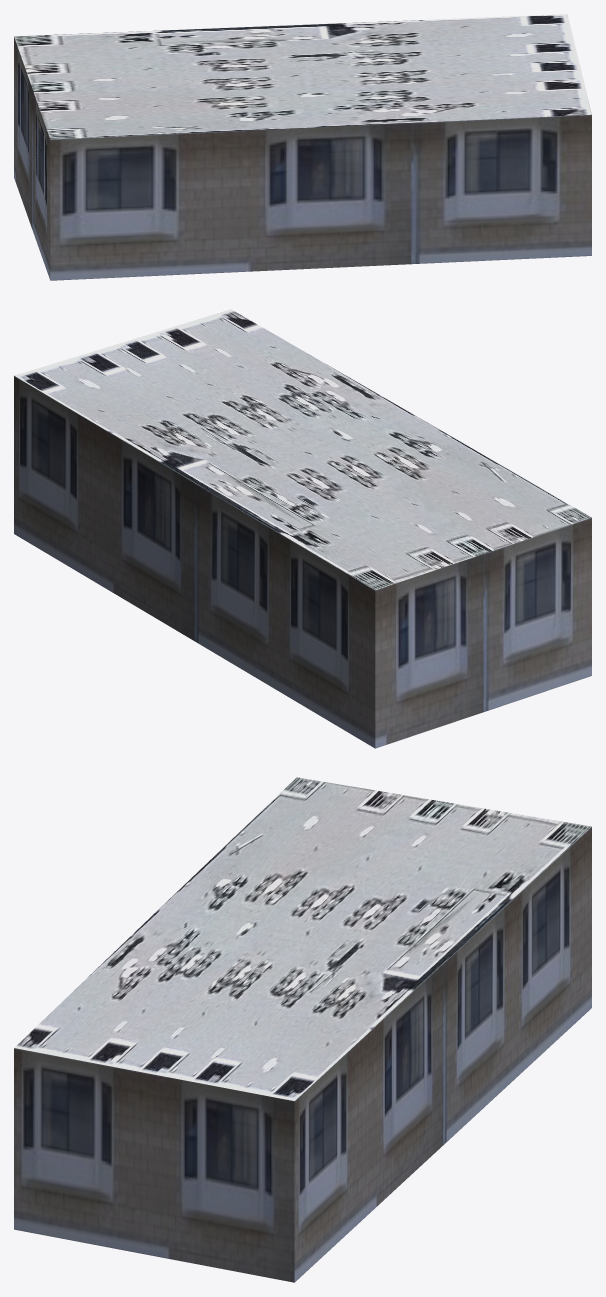
The model's file is ResTex__570.fbx.
3 views of the same model, one above another, from view 1: azimuth 30°, elevation 25°; view 2: azimuth 150°, elevation 25°; view 3: azimuth 270°, elevation 25° (orthographic). The views are drawn at different scales.
Parts seen in each view (by area): view 1: CityEngineMaterial_3_m, CityEngineMaterial_m; view 2: CityEngineMaterial_3_m, CityEngineMaterial_m; view 3: CityEngineMaterial_3_m, CityEngineMaterial_m.
Boxes of the visible parts, x1=… form: CityEngineMaterial_3_m: x1=14, y1=37, x2=591, y2=280; CityEngineMaterial_m: x1=14, y1=14, x2=591, y2=139; CityEngineMaterial_3_m: x1=14, y1=376, x2=591, y2=748; CityEngineMaterial_m: x1=14, y1=309, x2=591, y2=590; CityEngineMaterial_3_m: x1=14, y1=827, x2=591, y2=1282; CityEngineMaterial_m: x1=14, y1=777, x2=591, y2=1100.
Bounding box in the file's own units: 11.48 × 3 × 8.66.
Materials: 2 (2 with a texture image).
